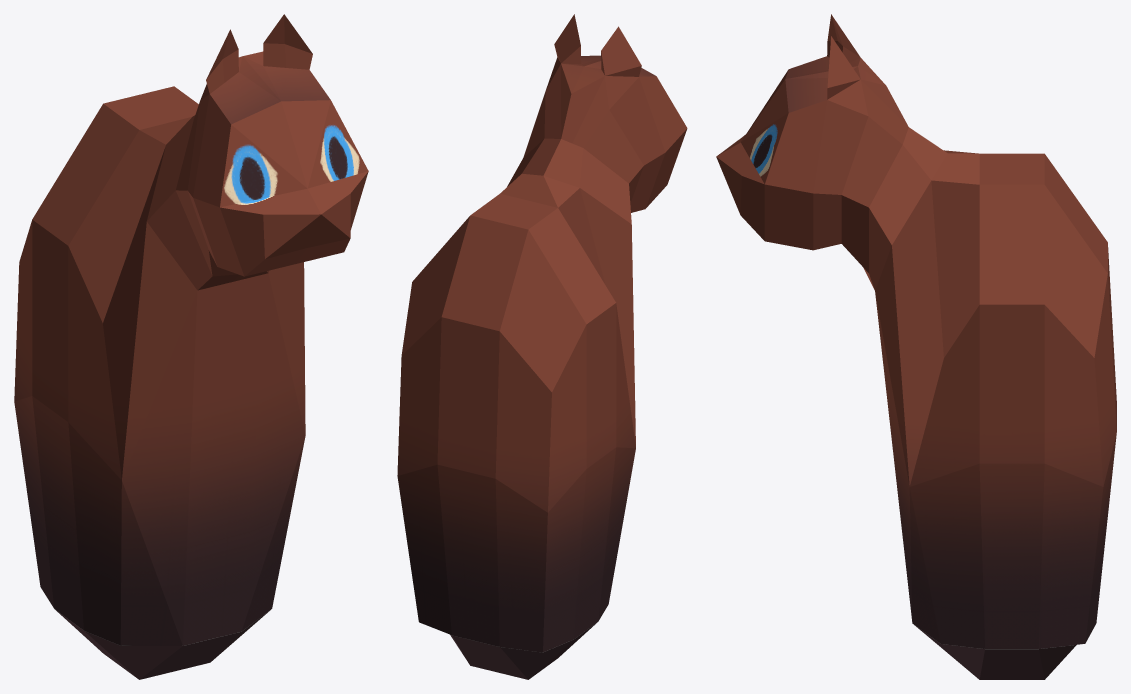
The model's file is snow_statue.glb.
3 views of the same model, side by side, from view 1: azimuth 30°, elevation 25°; view 2: azimuth 150°, elevation 25°; view 3: azimuth 270°, elevation 25° (orthographic). The views are drawn at different scales.
Parts seen in each view (by area): view 1: snow smoky quartz; view 2: snow smoky quartz; view 3: snow smoky quartz.
Boxes of the visible parts, x1,y1,x2,y2 form: snow smoky quartz: (14,14,368,679); snow smoky quartz: (397,14,687,679); snow smoky quartz: (716,14,1116,679).
Size of the model in its own units: 0.4146 by 1.32 by 0.7502.
1 material, 1 textured.
